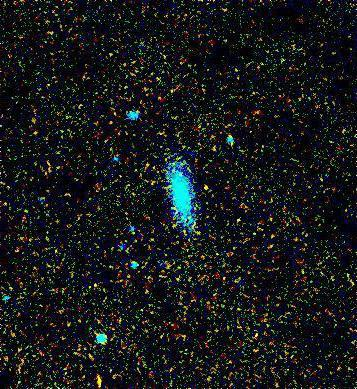star: (190, 171, 220, 201)
